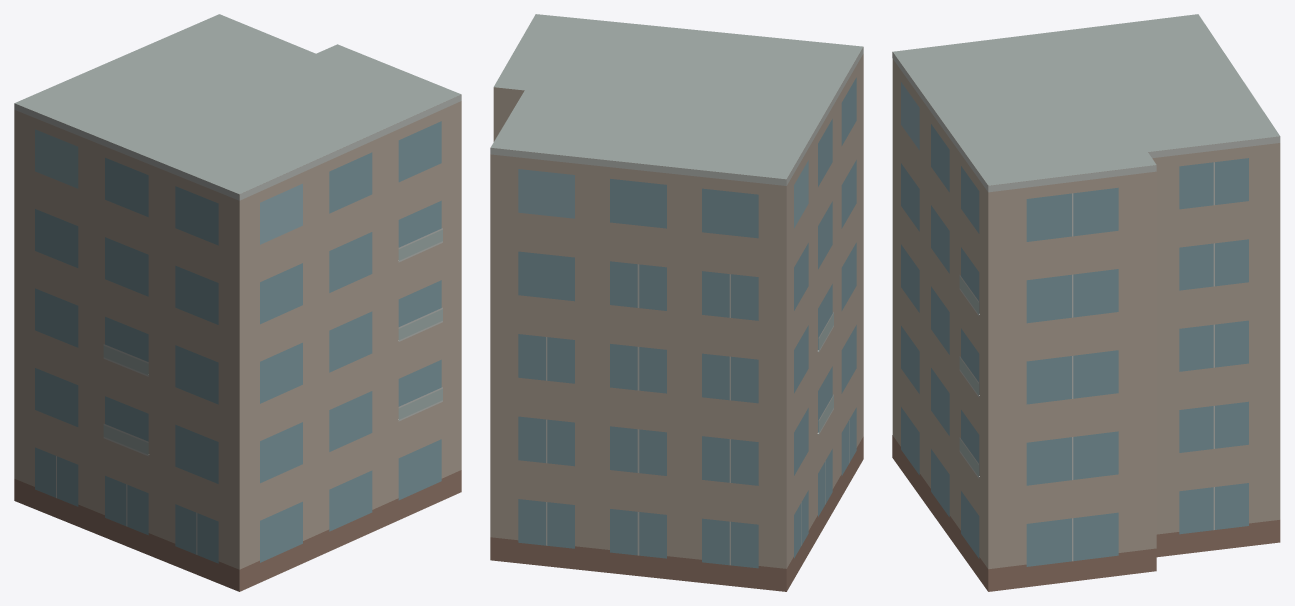
The model's file is survey-upis-32755746.glb.
3 views of the same model, side by side, from view 1: azimuth 30°, elevation 25°; view 2: azimuth 150°, elevation 25°; view 3: azimuth 270°, elevation 25° (orthographic). The views are drawn at different scales.
Parts seen in each view (by area): view 1: survey-upis-32755746.tmp; view 2: survey-upis-32755746.tmp; view 3: survey-upis-32755746.tmp.
Boxes of the visible parts, x1,y1,x2,y2 form: survey-upis-32755746.tmp: (14, 14, 461, 591); survey-upis-32755746.tmp: (490, 14, 863, 591); survey-upis-32755746.tmp: (892, 14, 1280, 591).
Size of the model in its own units: 13.62 by 15 by 12.99.
